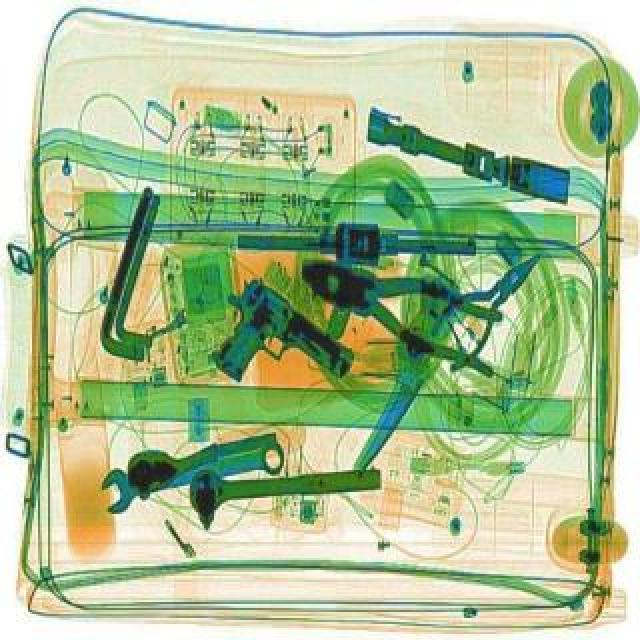gun: (184, 268, 360, 426)
scissors: (96, 430, 288, 514)
wrench: (282, 232, 522, 376), (412, 232, 562, 372)
